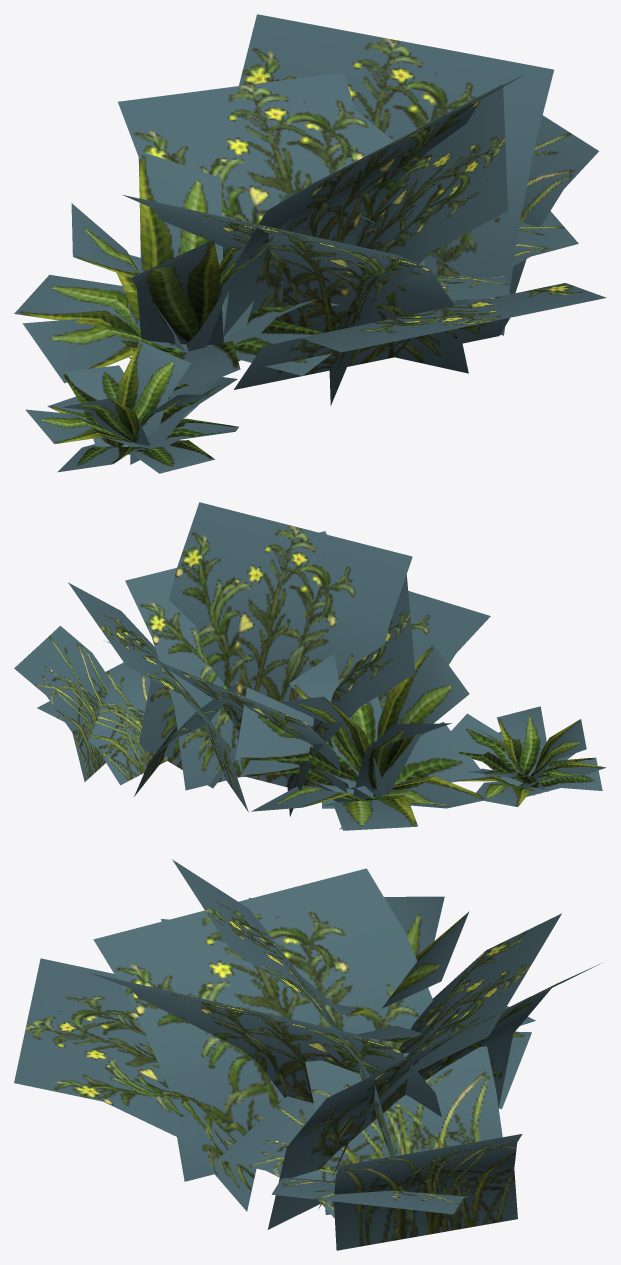
Rendered from 4002_Item_hua_4.FBX.
The picture shows the model from 3 angles, top to bottom: view 1: azimuth 30°, elevation 25°; view 2: azimuth 150°, elevation 25°; view 3: azimuth 270°, elevation 25°; orthographic projection. The views are drawn at different scales.
Visible parts, largest first — view 1: 4002_Item_hua_4; view 2: 4002_Item_hua_4; view 3: 4002_Item_hua_4.
Part boxes in pixels (bbox=[...]): 4002_Item_hua_4: bbox=[14, 14, 606, 473]; 4002_Item_hua_4: bbox=[14, 502, 606, 830]; 4002_Item_hua_4: bbox=[14, 859, 601, 1250].
Bounding box in the file's own units: 27158 × 11784 × 21774.
